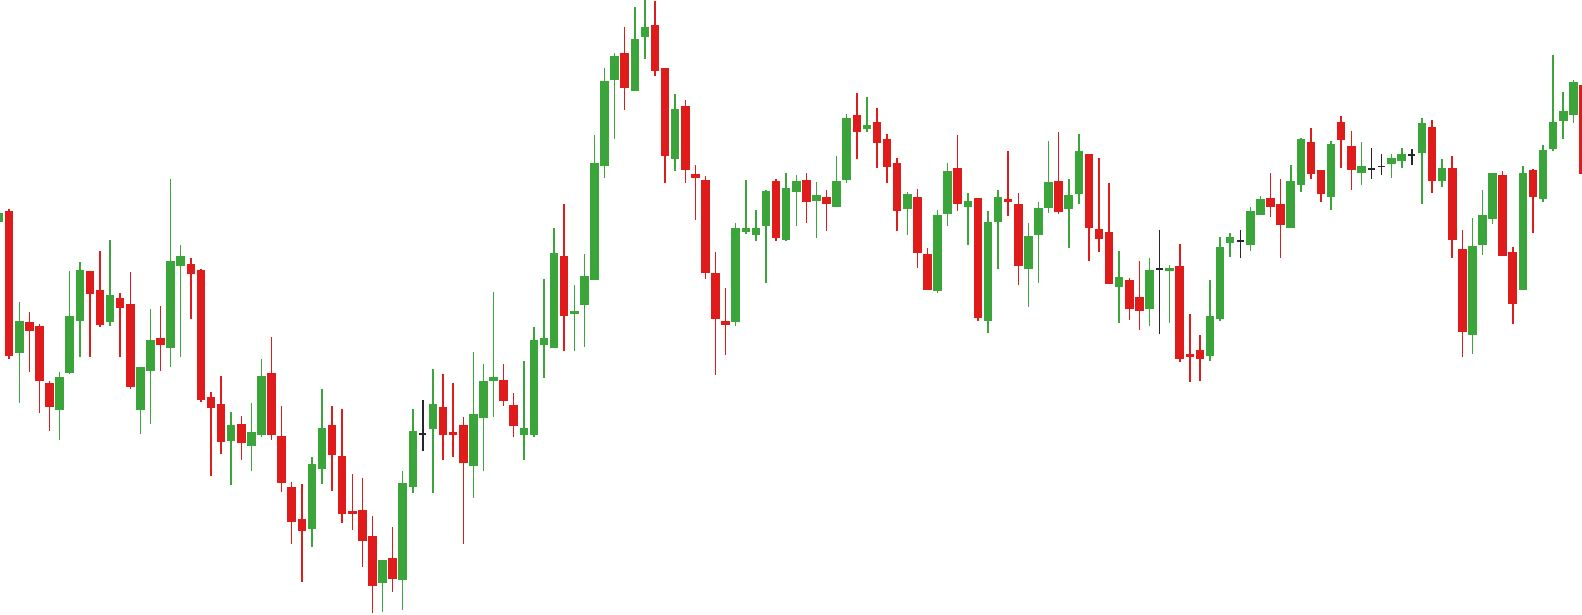buy: (1273, 164, 1477, 367), (571, 160, 743, 377), (295, 446, 388, 615), (1135, 265, 1216, 383)
sell: (106, 171, 197, 329), (1004, 123, 1065, 242)
